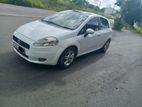car: (11, 10, 114, 68)
